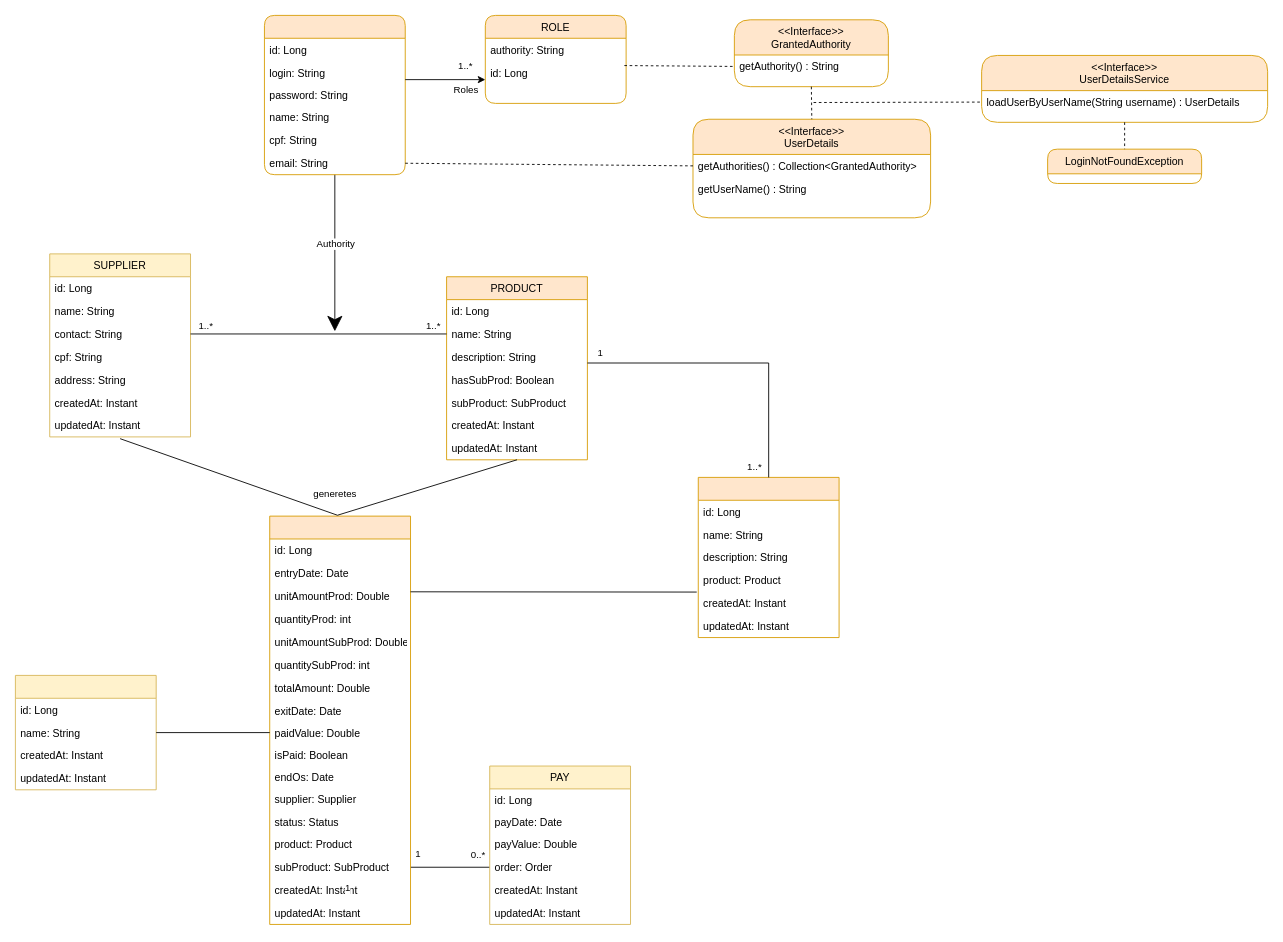
Image size: 1283x942. Some labels were removed from this diagram. The shapes that lost their labels are listed below. From the top down, each one's box as (x1, y1, x2, y2) in pixels, then its label:
(264, 15, 405, 175): USER
(697, 477, 839, 638): SUB_PRODUCT
(15, 675, 156, 790): STATUS
(269, 515, 411, 924): OS
